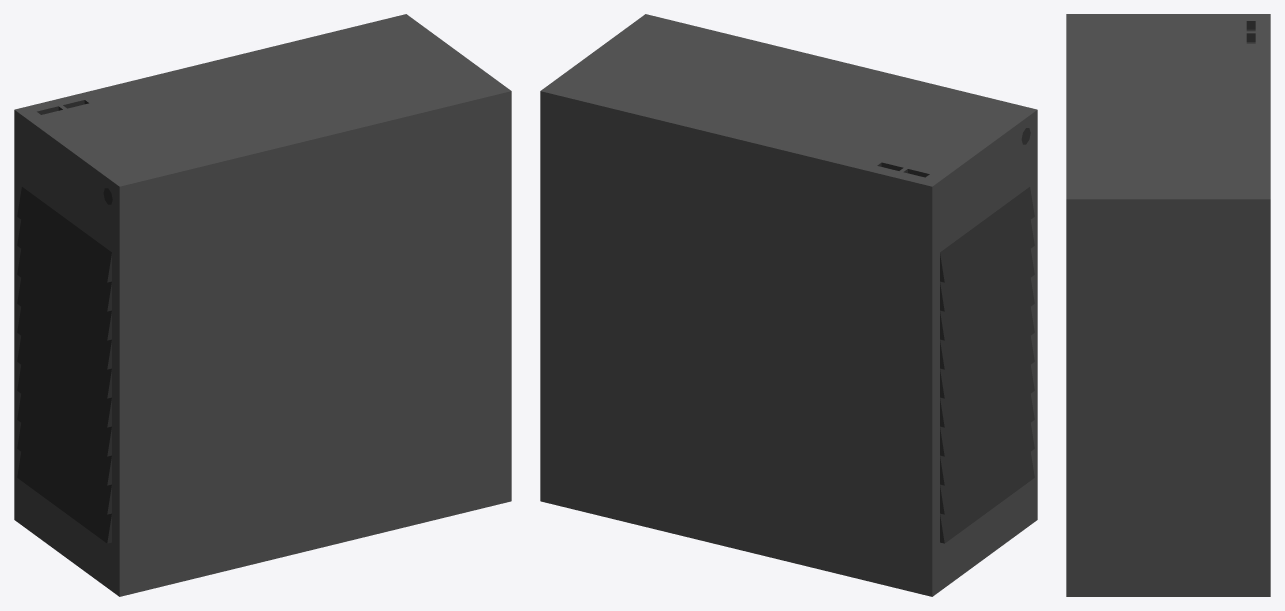
Rendered from Computah.fbx.
The picture shows the model from 3 angles, left to right: view 1: azimuth 30°, elevation 25°; view 2: azimuth 150°, elevation 25°; view 3: azimuth 270°, elevation 25°; orthographic projection. The views are drawn at different scales.
Visible parts, largest first — view 1: Computer; view 2: Computer; view 3: Computer.
Boxes of the visible parts, x1=… form: Computer: x1=14, y1=14, x2=511, y2=596; Computer: x1=540, y1=14, x2=1037, y2=596; Computer: x1=1066, y1=14, x2=1270, y2=596.
Bounding box in the file's own units: 72.21 × 71.34 × 33.19.
